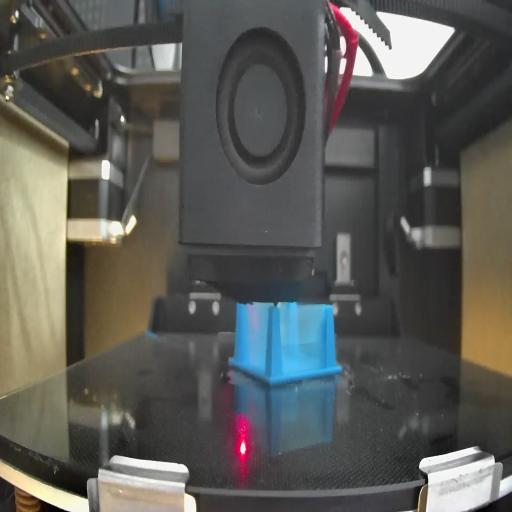stringing: (282, 310, 330, 372), (241, 308, 267, 372)
